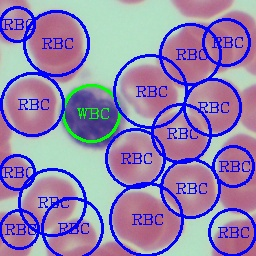RBC: (116, 60, 180, 122), (16, 172, 80, 233), (1, 75, 60, 140), (26, 7, 86, 69), (158, 161, 219, 221), (184, 74, 244, 134), (105, 129, 164, 189), (154, 29, 212, 89), (107, 188, 164, 249), (149, 108, 210, 164), (174, 19, 234, 74), (138, 196, 187, 252), (210, 8, 254, 69), (32, 42, 88, 86), (214, 130, 255, 190), (42, 215, 101, 255), (214, 164, 255, 217), (206, 216, 255, 255), (0, 148, 32, 203)
WBC: (54, 80, 130, 152)
